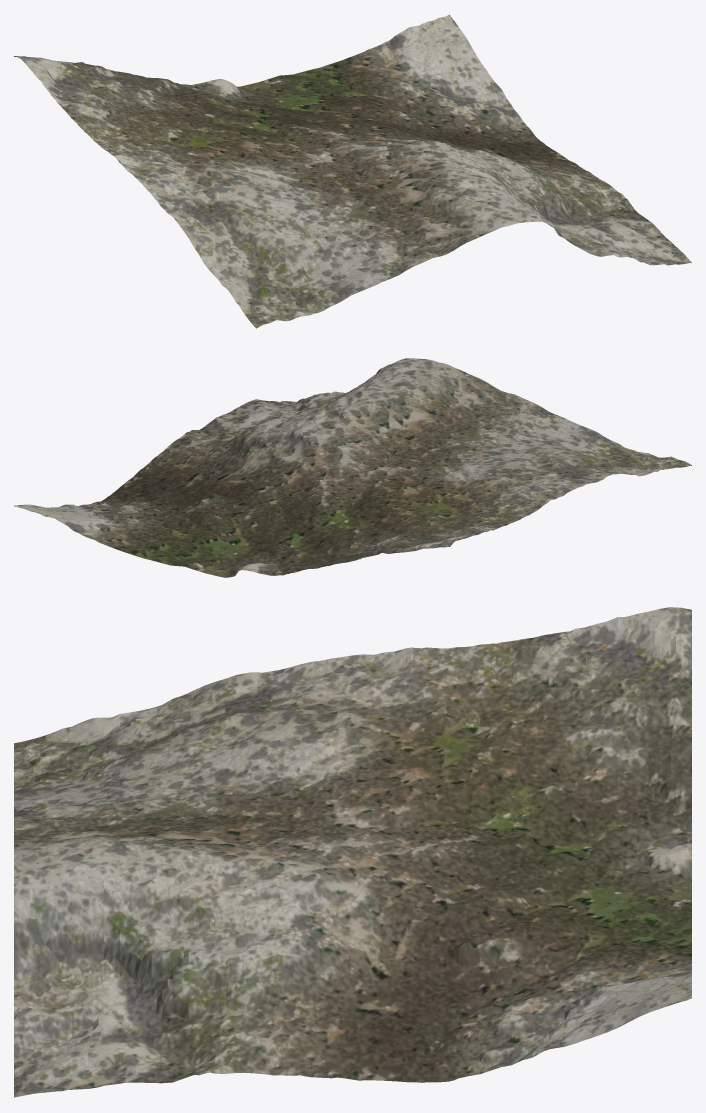
3 renders of one model, top to bottom at view 1: azimuth 30°, elevation 25°; view 2: azimuth 150°, elevation 25°; view 3: azimuth 270°, elevation 25°, orthographic. The views are drawn at different scales.
Bounding box in the file's own units: 500 × 152 × 481.
1 material, 1 textured.
